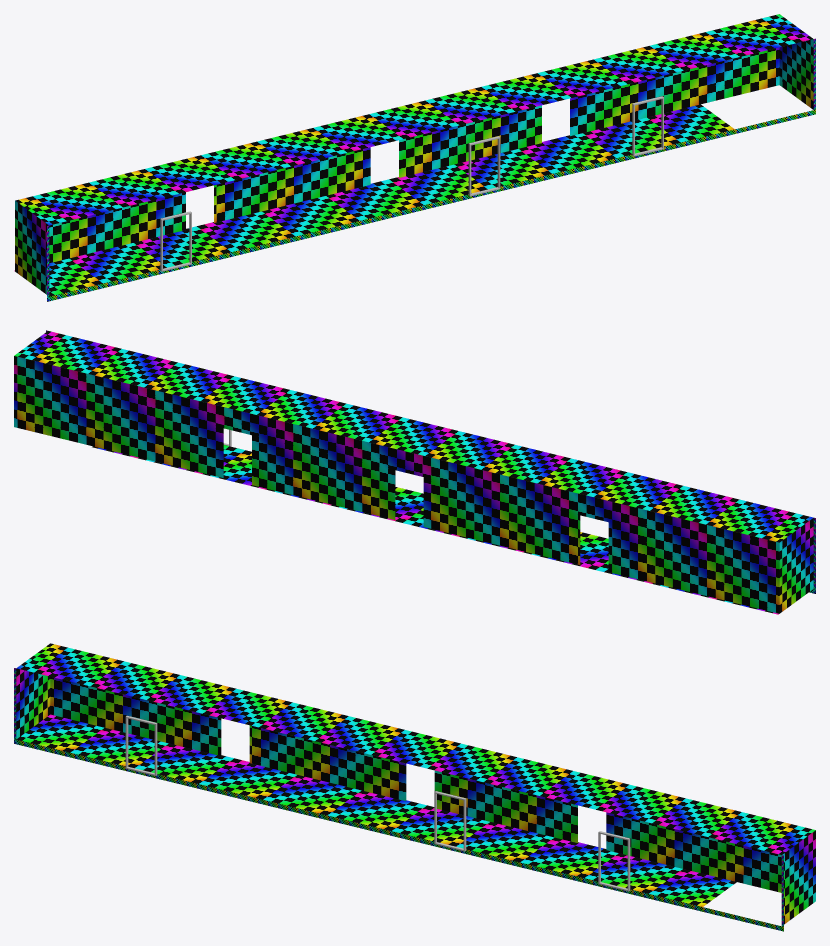
The model's file is MidUpper.FBX.
3 renders of one model, top to bottom at view 1: azimuth 30°, elevation 25°; view 2: azimuth 150°, elevation 25°; view 3: azimuth 330°, elevation 25°, orthographic.
Visible parts, largest first — view 1: MidUpperCorridorWall, MidUpperCorridorCeiling, MidUpperCorridorFloor, MidUpperBeams, MidUpperDoorFrameWork; view 2: MidUpperCorridorWall, MidUpperCorridorCeiling, MidUpperCorridorFloor; view 3: MidUpperCorridorWall, MidUpperCorridorCeiling, MidUpperCorridorFloor, MidUpperBeams, MidUpperDoorFrameGrandpa, MidUpperDoorFrameWork, MidUpperDoorFrameParents.
Part boxes in pixels (x1=…): MidUpperCorridorWall: x1=15, y1=39, x2=813, y2=294; MidUpperCorridorCeiling: x1=15, y1=14, x2=812, y2=225; MidUpperCorridorFloor: x1=14, y1=104, x2=734, y2=296; MidUpperBeams: x1=47, y1=38, x2=815, y2=301; MidUpperDoorFrameWork: x1=468, y1=136, x2=500, y2=196; MidUpperCorridorWall: x1=14, y1=356, x2=813, y2=613; MidUpperCorridorCeiling: x1=14, y1=331, x2=813, y2=542; MidUpperCorridorFloor: x1=92, y1=445, x2=778, y2=614; MidUpperCorridorWall: x1=16, y1=668, x2=815, y2=924; MidUpperCorridorCeiling: x1=16, y1=643, x2=815, y2=854; MidUpperCorridorFloor: x1=16, y1=714, x2=736, y2=906; MidUpperBeams: x1=14, y1=668, x2=783, y2=931; MidUpperDoorFrameGrandpa: x1=125, y1=715, x2=157, y2=776; MidUpperDoorFrameWork: x1=434, y1=791, x2=466, y2=851; MidUpperDoorFrameParents: x1=598, y1=831, x2=630, y2=891.
Size of the model in its own units: 1336 by 126 by 111.
